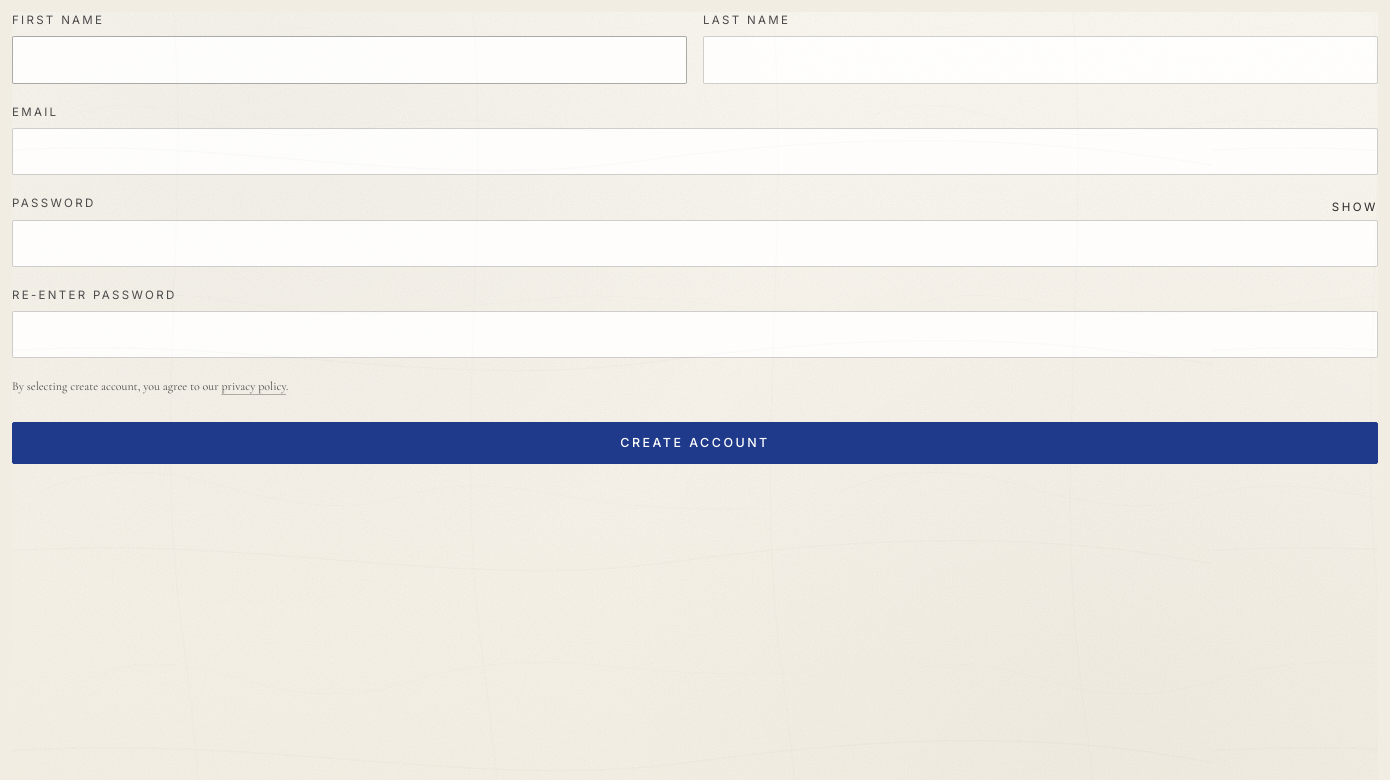
Scenario: RegisterForm privacy notice › rejects an 11-char password (one short of the minimum) and shows the rule
# 11 chars, includes upper / lower / digit / special, but too short.
In the password field labelled "Password": (695, 243) [12,220,1378,267], type "Aa1!short!!"
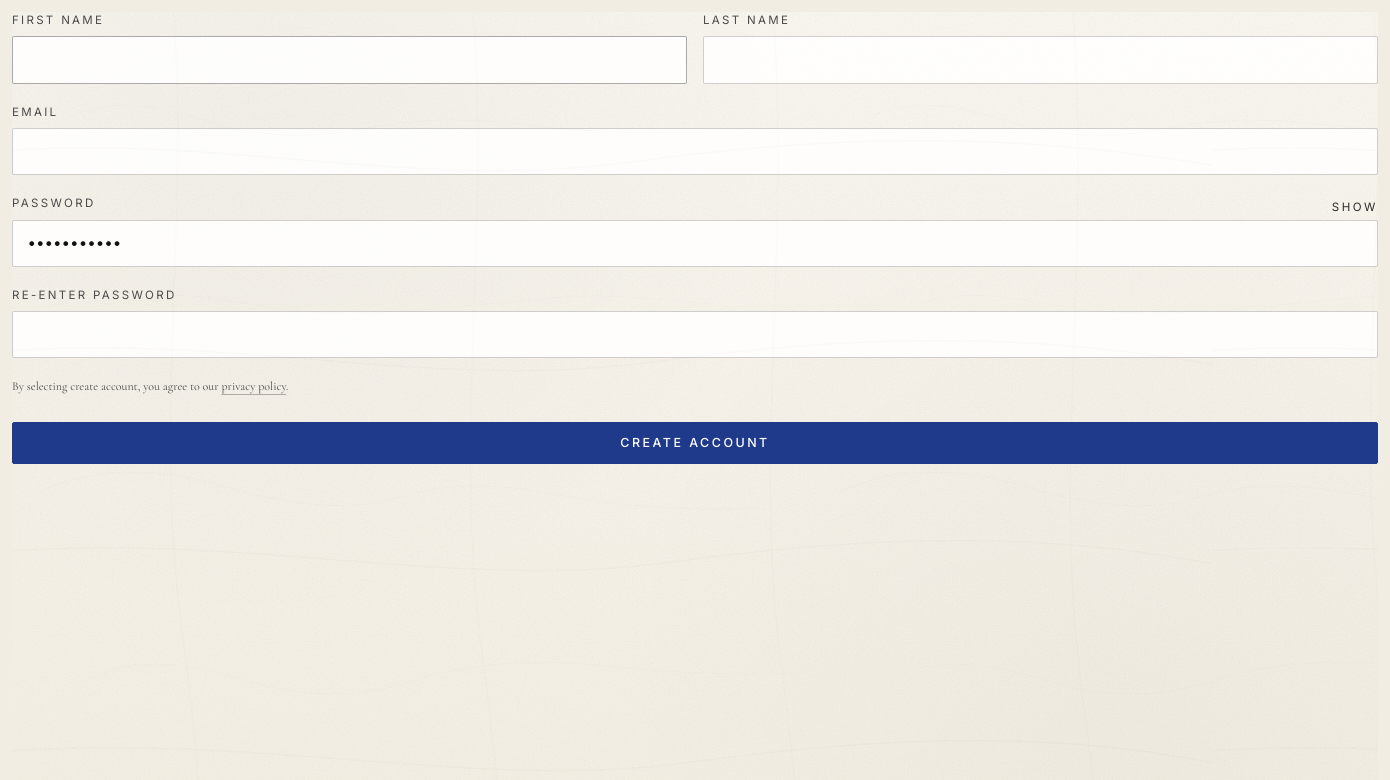
Leave the password field labelled "Password", box [12,220,1378,267]
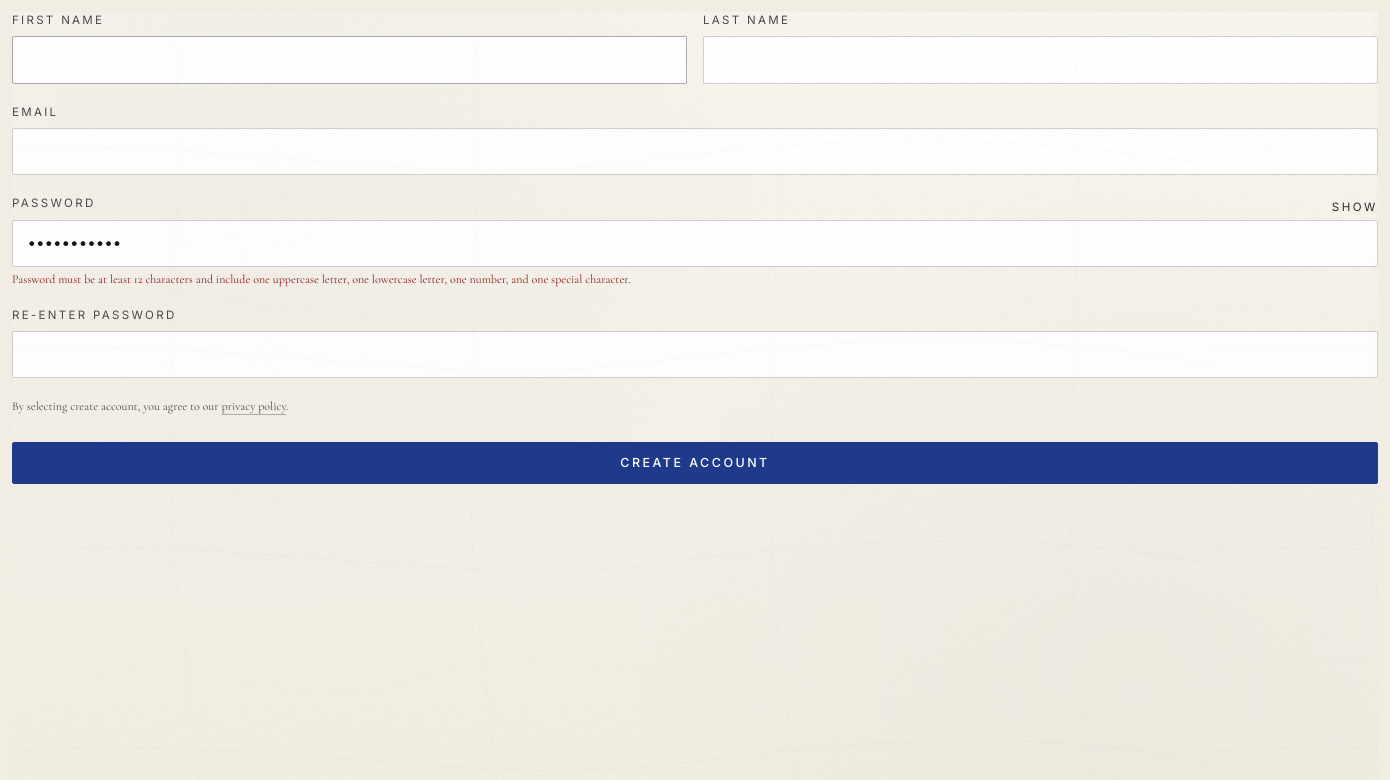
Expected: the text "Password must be at least 12 characters and include one uppercase letter, one lowercase letter, one number, and one spec" is shown, [12,272,631,286]
